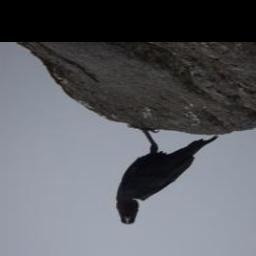Crow: (113, 126, 218, 226)
